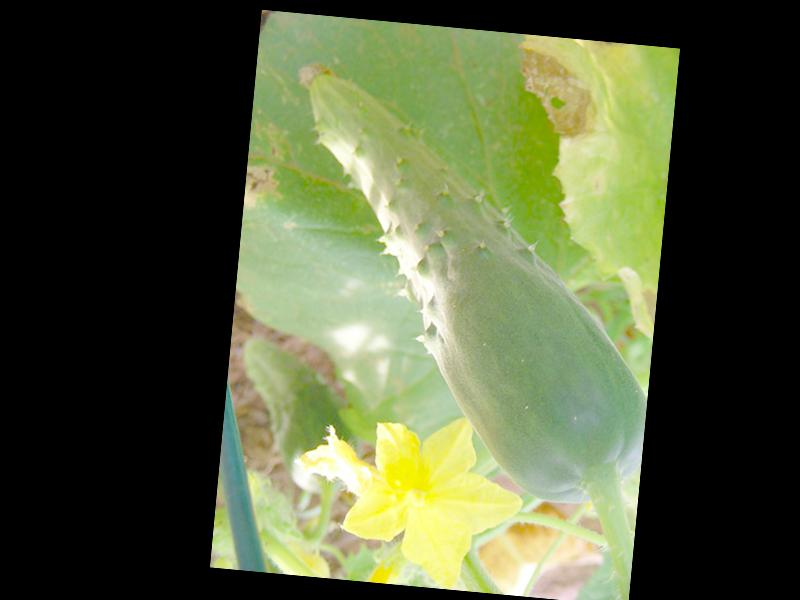Cucumber: (260, 61, 674, 509)
